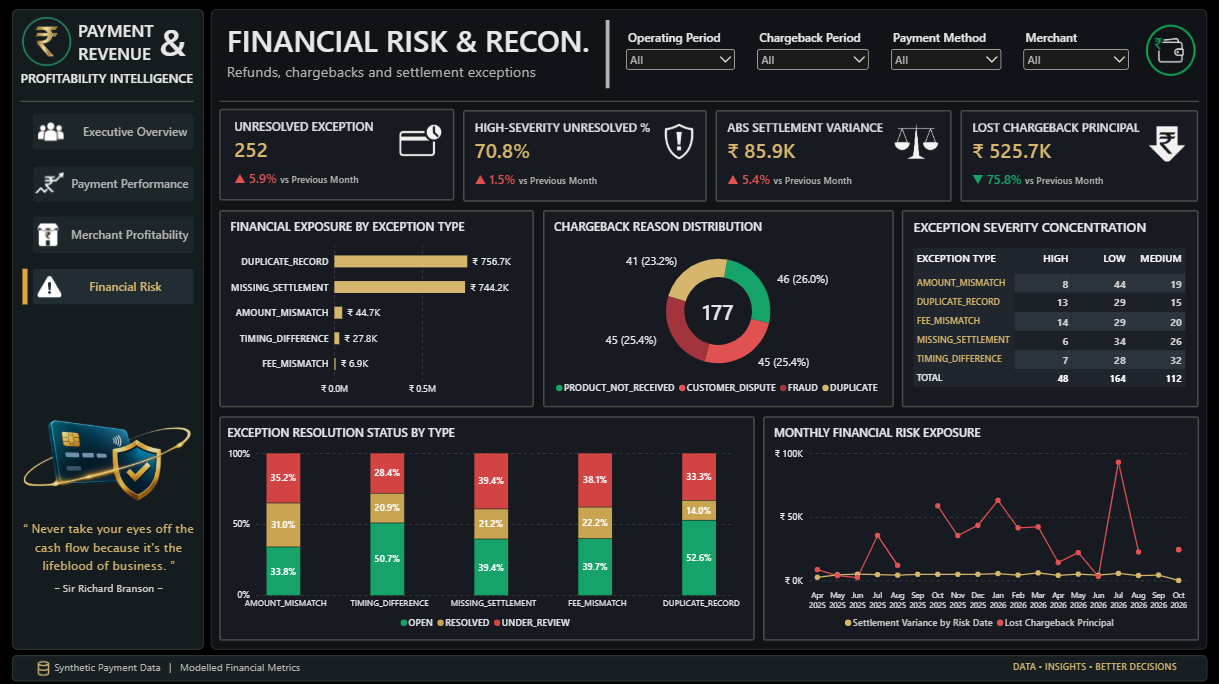

The dashboard page shown, as its layout file describes it:
{"tool":"powerbi","page":{"name":"Financial Risk","canvas":[1920,1080],"ordinal":3},"visuals":[{"type":"shape","box":[22,14,302,1006],"z":0},{"type":"shape","box":[334,14,1564,1006],"z":1000},{"type":"shape","box":[22,1028,1876,42],"z":2000},{"type":"textbox","title":"FINANCIAL RISK & RECON.","box":[358.9,31.3,612.9,103.1],"z":3000},{"type":"actionButton","box":[54,178,252,56],"z":4000},{"type":"actionButton","box":[54,260,252,56],"z":5000},{"type":"actionButton","box":[54,340,252,58],"z":6000},{"type":"actionButton","box":[54,422,252,56],"z":7000},{"type":"shape","box":[34,422,18,56],"z":8000},{"type":"group","id":"g1","title":"Group 1","box":[52,1034,1804,30],"z":12000},{"type":"textbox","title":"PAYMENT REVENUE","box":[126,30,122,66],"z":13000},{"type":"textbox","title":"&","box":[252.5,25,47.5,65],"z":14000},{"type":"textbox","title":"PROFITABILITY INTELLIGENCE","box":[36,108,280,34],"z":15000},{"type":"image","box":[32,26,90,78],"z":16000},{"type":"shape","box":[36,152,272,12],"z":17000},{"type":"shape","box":[348,152,1537,12],"z":18000},{"type":"image","box":[1792.6,36.8,93.9,82.8],"z":19000},{"type":"slicer","fields":{"Values":["Date.Month Year"]},"box":[981,46,180.4,79.1],"z":20000},{"type":"shape","box":[948.9,30.9,14.4,107],"z":21000},{"type":"slicer","fields":{"Values":["Transactions.payment_method"]},"box":[1396.9,46,182.2,79.1],"z":22000},{"type":"slicer","fields":{"Values":["Merchants.merchant_name"]},"box":[1603.1,44.2,174.8,79.1],"z":23000},{"type":"image","box":[52,1034,36,30],"z":23000,"group":"g1"},{"type":"cardVisual","fields":{"Data":["ALL_Measures.Unresolved Exceptions"]},"box":[347.9,171.2,369,144],"z":24000},{"type":"textbox","box":[88,1036,392,28],"z":24000,"group":"g1"},{"type":"cardVisual","fields":{"Data":["ALL_Measures.Absolute Settlement Variance"]},"box":[1125,172,370,144],"z":25000},{"type":"textbox","box":[1592,1036,264,28],"z":25000,"group":"g1"},{"type":"cardVisual","fields":{"Data":["ALL_Measures.High-Severity Unresolved %"]},"box":[730,172,382,144],"z":26000},{"type":"slicer","fields":{"Values":["Chargeback Date.Month Year"]},"box":[1187.1,46,184.1,79.1],"z":27000},{"type":"cardVisual","fields":{"Data":["ALL_Measures.Lost Chargeback Principal by Chargeback Date"]},"box":[1510,172,373,144],"z":28000},{"type":"donutChart","title":"CHARGEBACK REASON DISTRIBUTION","fields":{"Category":["Chargebacks.reason"],"Y":["ALL_Measures.Total Chargebacks"]},"box":[854,329.4,550.3,309.2],"z":29000},{"type":"clusteredBarChart","title":"FINANCIAL EXPOSURE BY EXCEPTION TYPE","fields":{"Category":["Reconciliation Exceptions.exception_type"],"Y":["ALL_Measures.Financial Exposure"]},"box":[347.9,329.4,493.3,309.2],"z":30000},{"type":"pivotTable","title":"EXCEPTION SEVERITY CONCENTRATION","fields":{"Columns":["Reconciliation Exceptions.severity"],"Rows":["Reconciliation Exceptions.exception_type"],"Values":["CountNonNull(Reconciliation Exceptions.exception_id)"]},"box":[1417.2,329.4,465.6,309.2],"z":31000},{"type":"hundredPercentStackedColumnChart","title":"EXCEPTION RESOLUTION STATUS BY TYPE","fields":{"Category":["Reconciliation Exceptions.exception_type"],"Series":["Reconciliation Exceptions.status"],"Y":["CountNonNull(Reconciliation Exceptions.exception_id)"]},"box":[348,652,840,352],"z":32000},{"type":"lineChart","title":"MONTHLY FINANCIAL RISK EXPOSURE","fields":{"Category":["Chargeback Date.Month Year"],"Y":["ALL_Measures.Settlement Variance by Risk Date","ALL_Measures.Lost Chargeback Principal by Chargeback Date"]},"box":[1200,652,684,352],"z":33000},{"type":"image","box":[20.2,614.7,292.6,219],"z":33001,"group":"g2"},{"type":"textbox","title":"“ Never take your eyes off the cash flow because it''s the lifeblood of business. ” ","box":[34.9,815.3,276.1,123.3],"z":33002,"group":"g2"},{"type":"group","id":"g2","title":"Group 2","box":[20.2,614.7,292.6,323.9],"z":33003}]}

Visuals, with their boxes in screenshot pixels (x1, y1, x2, y2), scaled from the page's 1920x1080 canvas onto the 1219x684 screenshot:
shape: box(14, 9, 206, 646)
shape: box(212, 9, 1205, 646)
shape: box(14, 651, 1205, 678)
"FINANCIAL RISK & RECON." textbox: box(228, 20, 617, 85)
actionButton: box(34, 113, 194, 148)
actionButton: box(34, 165, 194, 200)
actionButton: box(34, 215, 194, 252)
actionButton: box(34, 267, 194, 303)
shape: box(22, 267, 33, 303)
"Group 1" group: box(33, 655, 1178, 674)
"PAYMENT REVENUE" textbox: box(80, 19, 157, 61)
"&" textbox: box(160, 16, 190, 57)
"PROFITABILITY INTELLIGENCE" textbox: box(23, 68, 201, 90)
image: box(20, 16, 77, 66)
shape: box(23, 96, 196, 104)
shape: box(221, 96, 1197, 104)
image: box(1138, 23, 1198, 76)
slicer - Date.Month Year: box(623, 29, 737, 79)
shape: box(602, 20, 612, 87)
slicer - Transactions.payment_method: box(887, 29, 1003, 79)
slicer - Merchants.merchant_name: box(1018, 28, 1129, 78)
image: box(33, 655, 56, 674)
cardVisual - ALL_Measures.Unresolved Exceptions: box(221, 108, 455, 200)
textbox: box(56, 656, 305, 674)
cardVisual - ALL_Measures.Absolute Settlement Variance: box(714, 109, 949, 200)
textbox: box(1011, 656, 1178, 674)
cardVisual - ALL_Measures.High-Severity Unresolved %: box(463, 109, 706, 200)
slicer - Chargeback Date.Month Year: box(754, 29, 871, 79)
cardVisual - ALL_Measures.Lost Chargeback Principal by Chargeback Date: box(959, 109, 1196, 200)
"CHARGEBACK REASON DISTRIBUTION" donutChart: box(542, 209, 892, 404)
"FINANCIAL EXPOSURE BY EXCEPTION TYPE" clusteredBarChart: box(221, 209, 534, 404)
"EXCEPTION SEVERITY CONCENTRATION" pivotTable: box(900, 209, 1195, 404)
"EXCEPTION RESOLUTION STATUS BY TYPE" hundredPercentStackedColumnChart: box(221, 413, 754, 636)
"MONTHLY FINANCIAL RISK EXPOSURE" lineChart: box(762, 413, 1196, 636)
image: box(13, 389, 199, 528)
"“ Never take your eyes off the cash flow because it''s the lifeblood of business. ” " textbox: box(22, 516, 197, 594)
"Group 2" group: box(13, 389, 199, 594)
